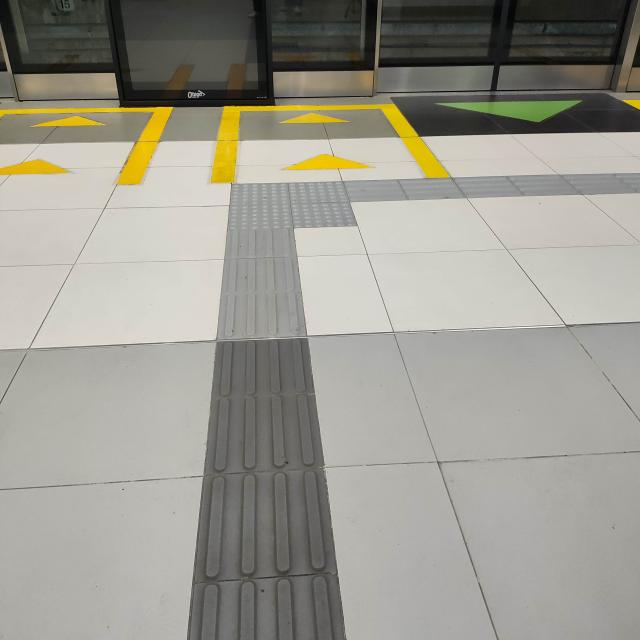kanan: (212, 161, 441, 248)
